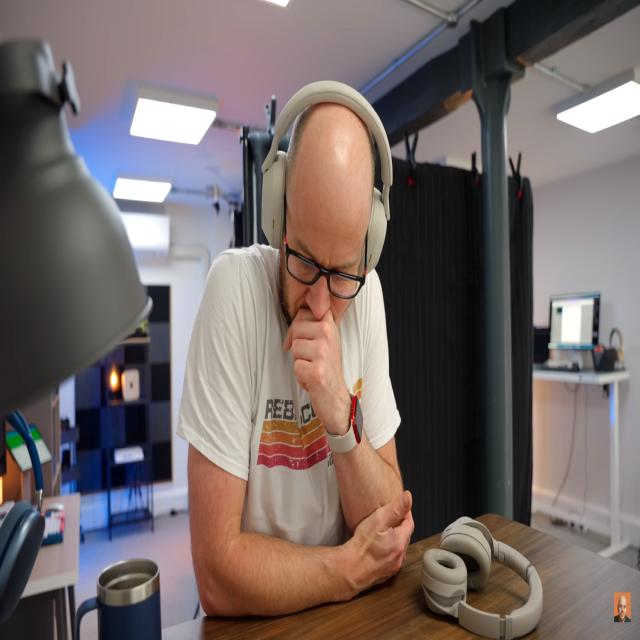Headphone: (260, 76, 394, 278), (420, 513, 547, 640)
